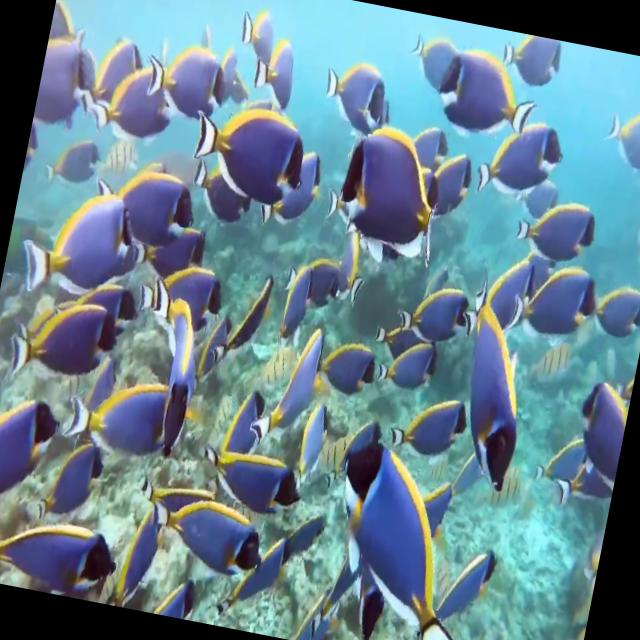fish: (306, 412, 499, 640), (439, 272, 554, 506), (327, 120, 452, 270), (18, 178, 156, 312), (136, 478, 280, 604), (0, 477, 130, 605), (8, 280, 134, 410), (428, 34, 544, 154), (184, 107, 312, 213), (138, 289, 210, 456), (68, 363, 174, 471), (102, 474, 181, 614), (105, 146, 215, 244), (380, 366, 481, 470), (85, 51, 184, 156), (220, 486, 300, 614), (34, 0, 114, 127), (0, 384, 70, 526), (383, 251, 476, 356), (37, 421, 123, 533), (204, 253, 286, 370), (141, 34, 236, 130), (510, 252, 603, 344), (420, 520, 504, 620), (557, 362, 635, 466), (480, 111, 569, 202), (511, 191, 602, 275), (146, 233, 235, 318), (316, 59, 395, 152), (78, 25, 158, 105), (365, 326, 446, 399), (241, 31, 307, 111), (39, 122, 108, 194), (270, 246, 320, 344), (491, 29, 566, 92), (146, 216, 213, 278), (592, 95, 640, 181), (586, 272, 640, 345), (425, 148, 479, 220), (145, 554, 200, 620), (230, 8, 284, 73), (300, 243, 344, 320)
